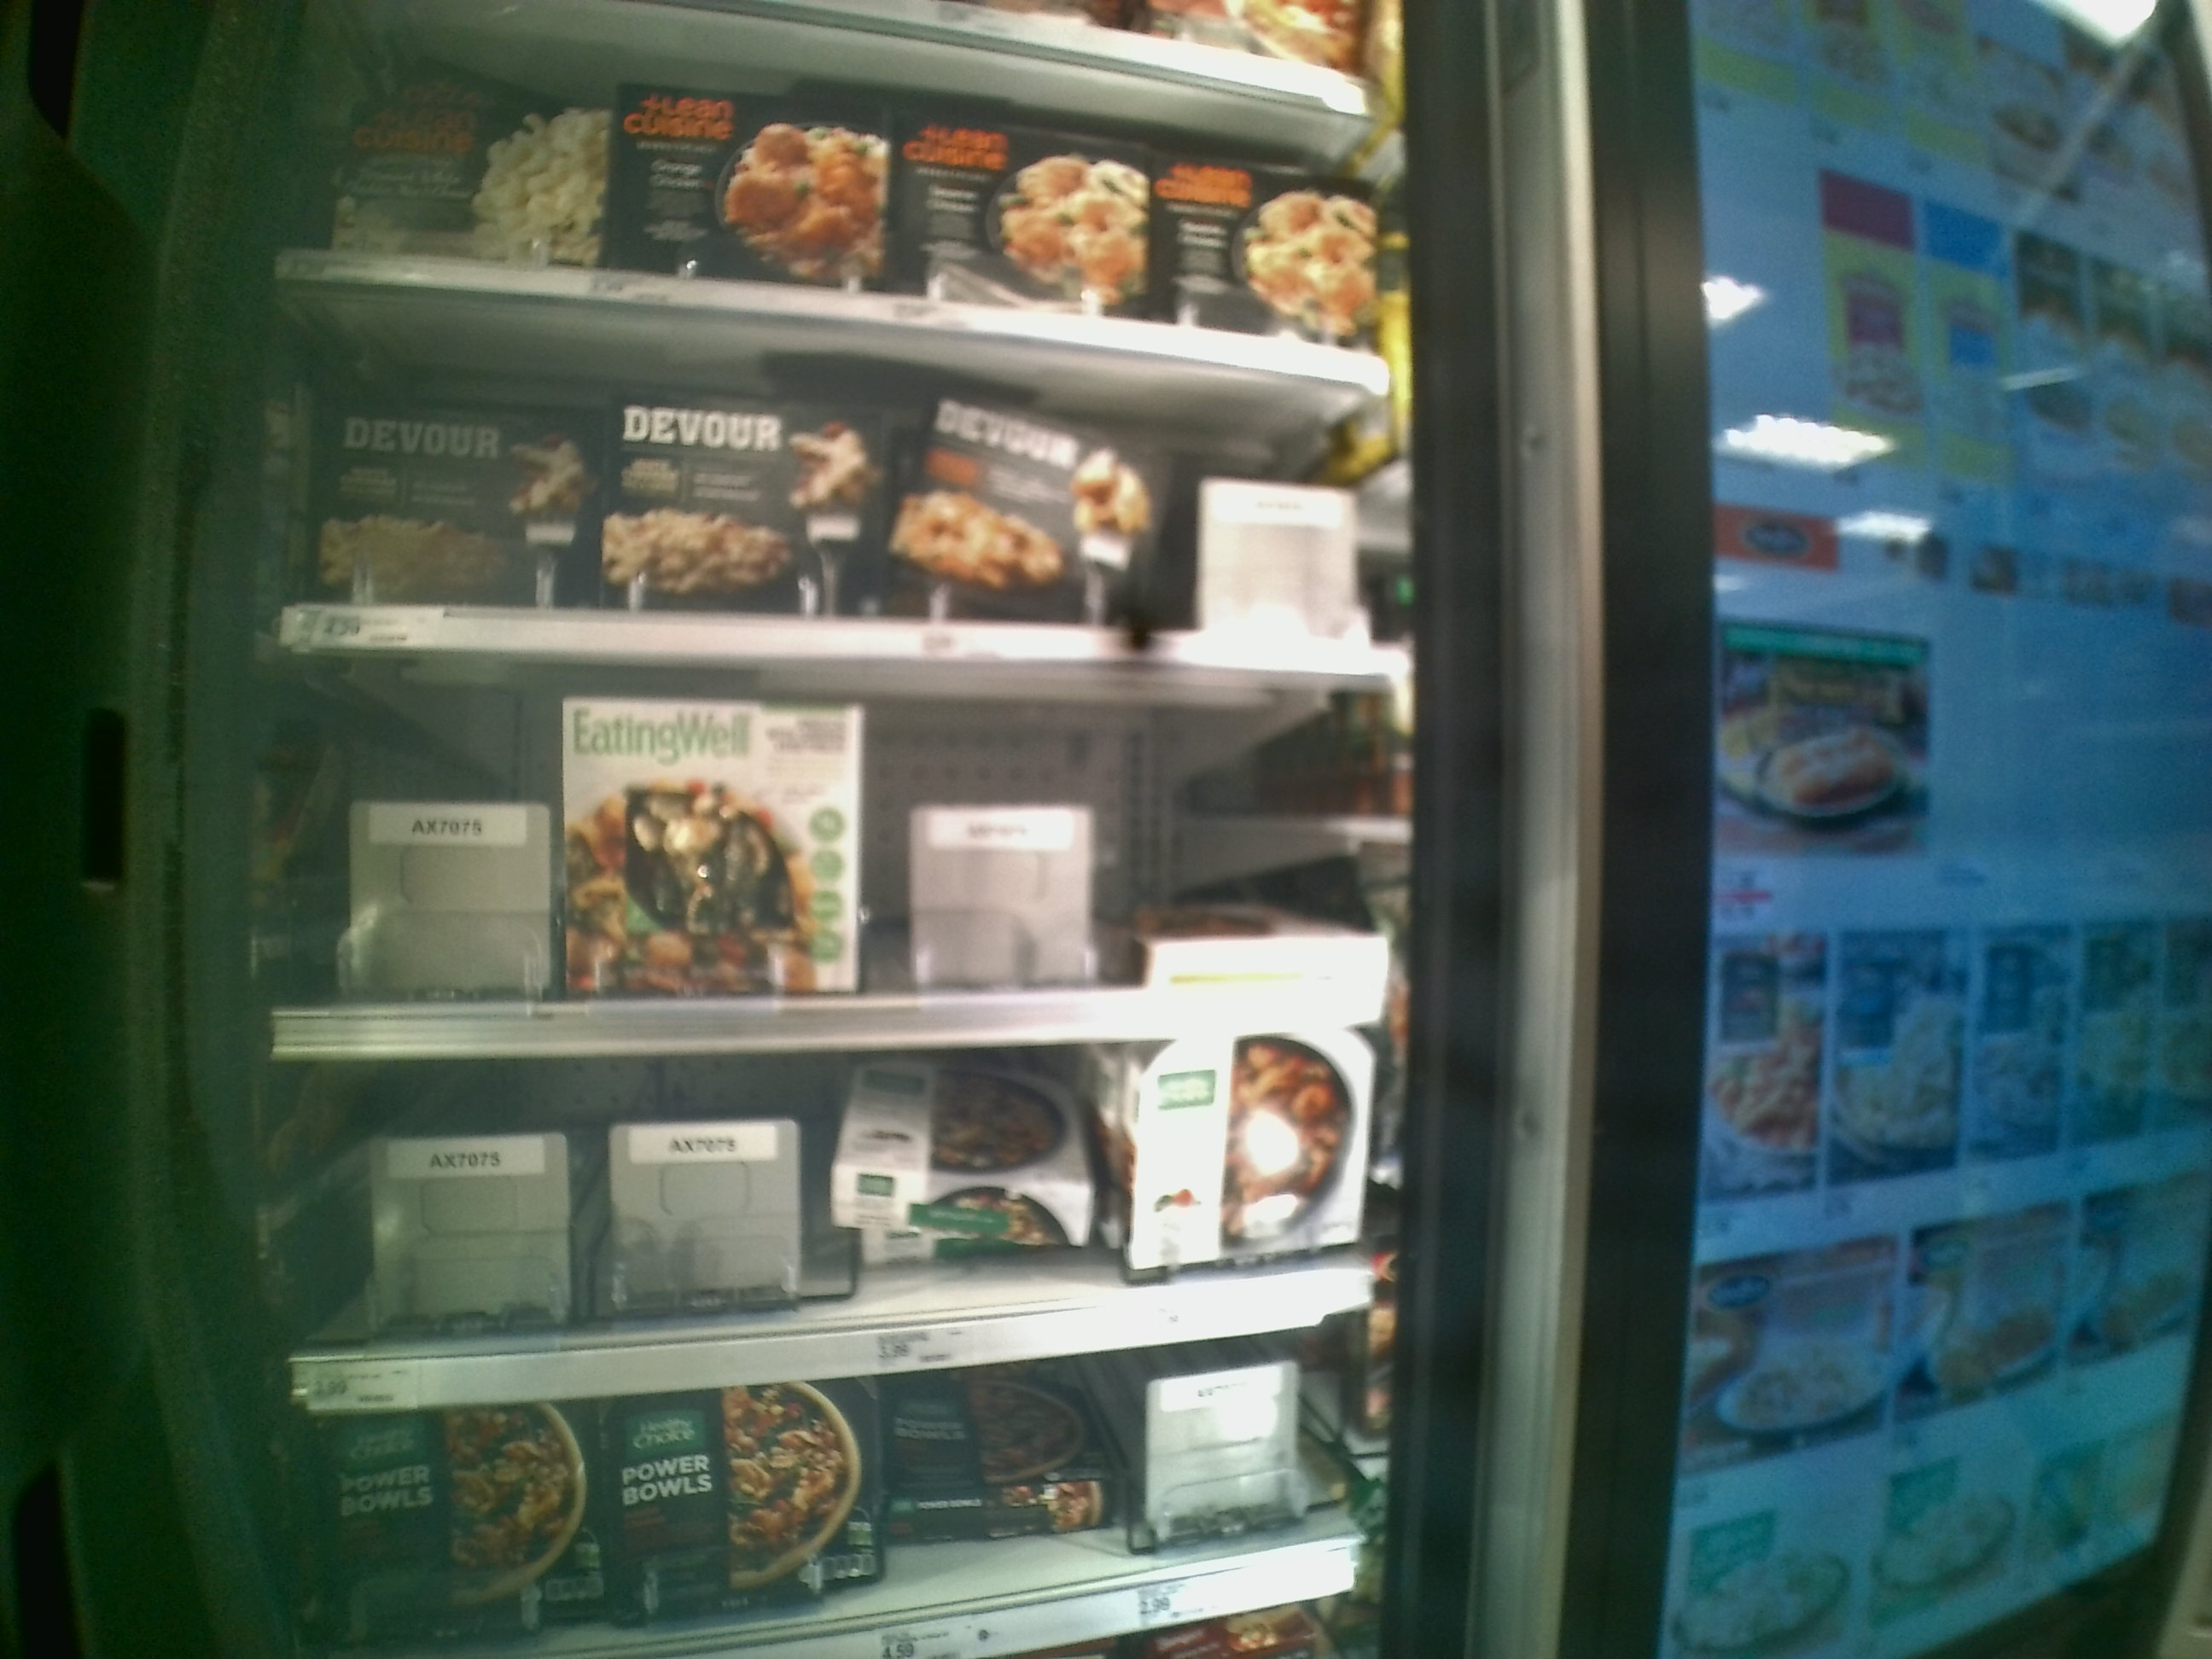shelf: (268, 648, 1416, 1058), (291, 267, 1411, 673), (268, 1018, 1407, 1412)
